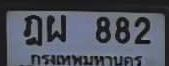2: (134, 16, 149, 43)
8: (114, 16, 129, 43), (95, 16, 110, 42)
A14: (23, 14, 41, 45)
A28: (46, 14, 65, 41)
BKK: (30, 51, 143, 66)
